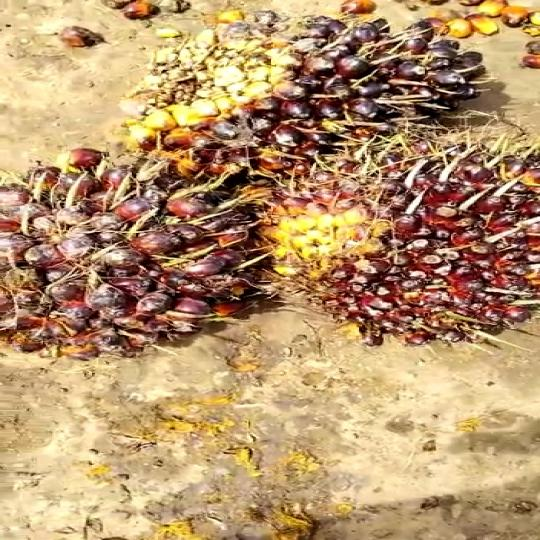kurang masak: (90, 9, 481, 166), (264, 130, 540, 344), (0, 144, 264, 347)
